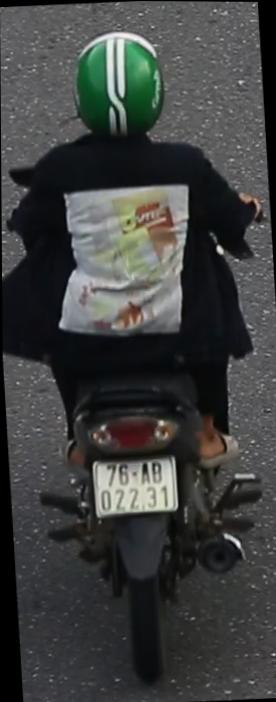LP: (87, 444, 183, 517)
helmet: (67, 20, 171, 151)
